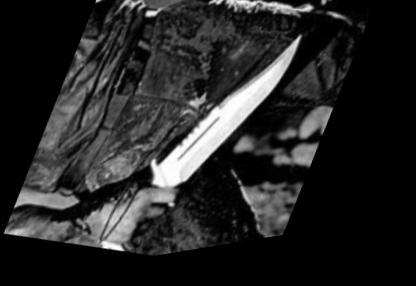knife: (92, 0, 315, 268)
